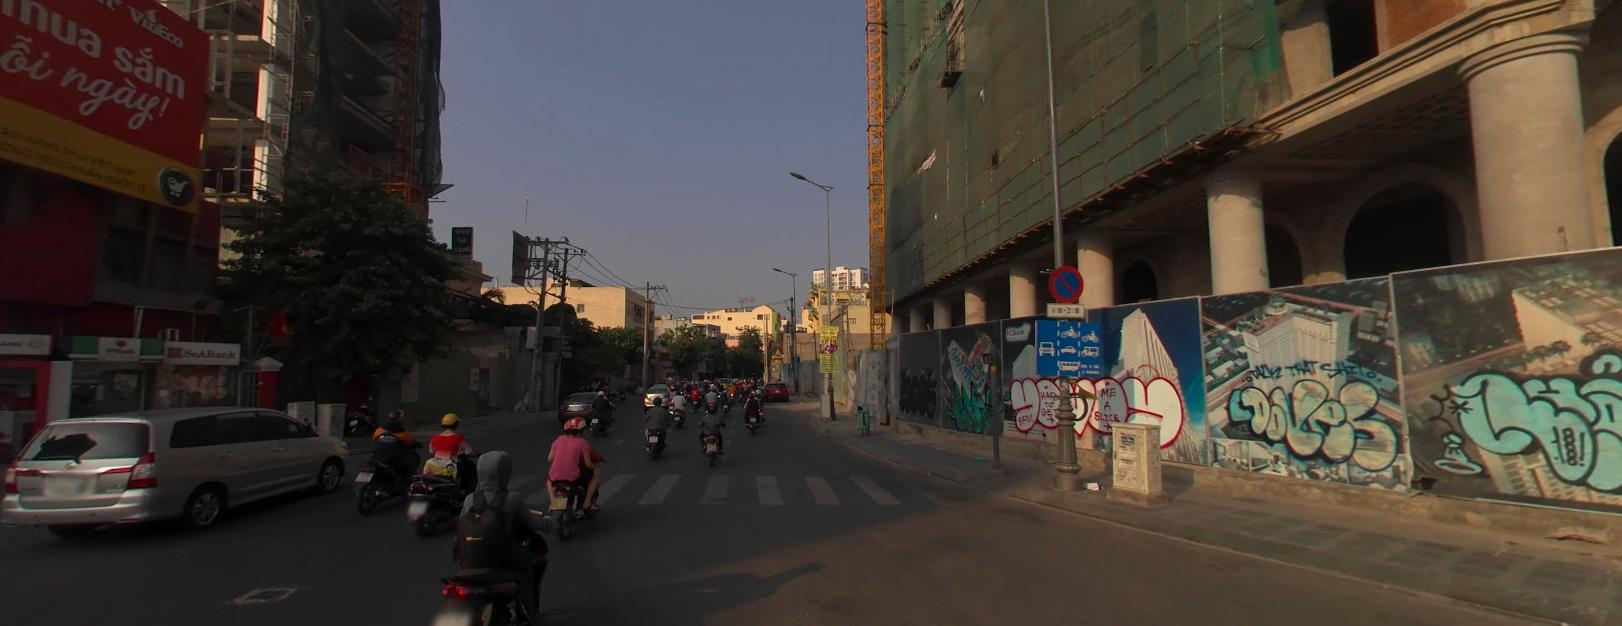Cam dung va do: (1049, 264, 1083, 301)
